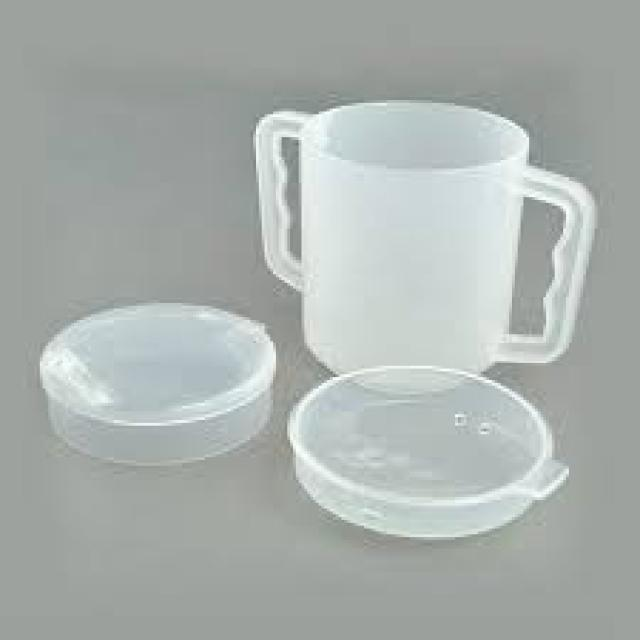cup: (266, 82, 550, 415)
